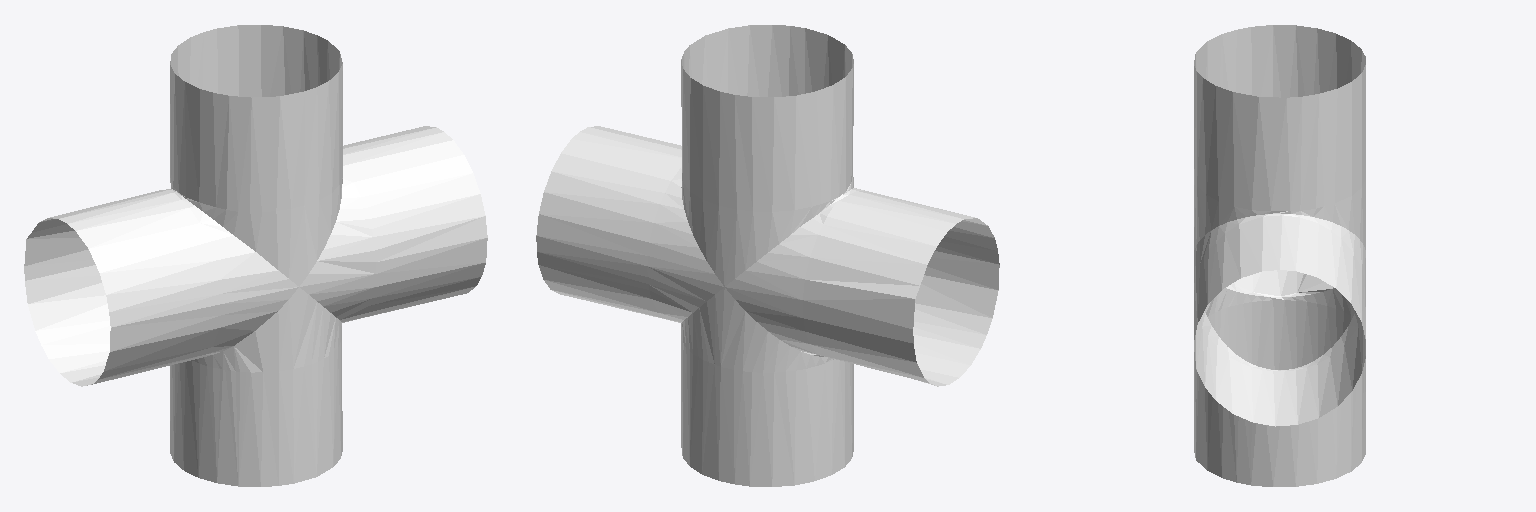
File: Chain.obj
3 views of the same model, side by side, from view 1: azimuth 30°, elevation 25°; view 2: azimuth 150°, elevation 25°; view 3: azimuth 270°, elevation 25° (orthographic).
Parts seen in each view (by area): view 1: Chain; view 2: Chain; view 3: Chain.
Boxes of the visible parts, box(x1,y1,x2,y2) form: Chain: box(24, 25, 487, 486); Chain: box(536, 25, 999, 486); Chain: box(1194, 25, 1365, 486).
Size of the model in its own units: 4.59 by 4.54 by 1.82.